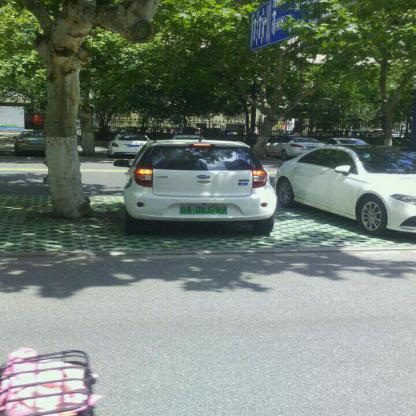lp: (179, 204, 227, 214)
